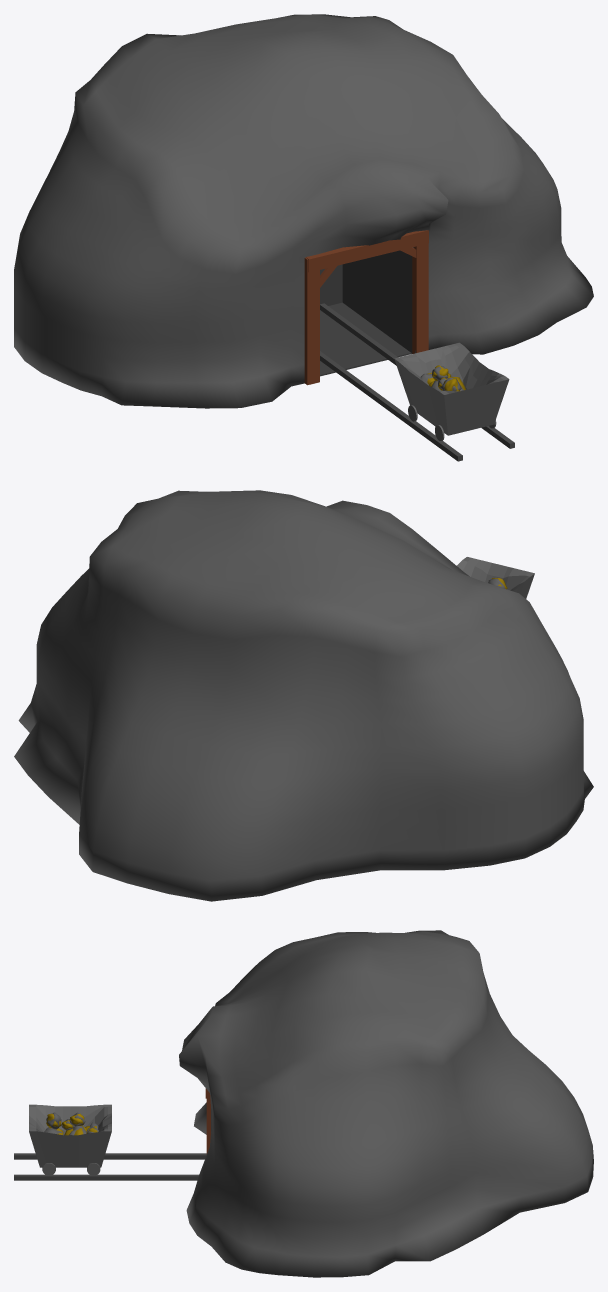
File: GoldMine.fbx
3 views of the same model, one above another, from view 1: azimuth 30°, elevation 25°; view 2: azimuth 150°, elevation 25°; view 3: azimuth 270°, elevation 25° (orthographic). The views are drawn at different scales.
Parts seen in each view (by area): view 1: GoldMine; view 2: GoldMine; view 3: GoldMine.
Boxes of the visible parts, left/top/right/bottom form: GoldMine: left=14, top=14, right=593, bottom=461; GoldMine: left=14, top=490, right=593, bottom=901; GoldMine: left=14, top=930, right=593, bottom=1277.
Size of the model in its own units: 2234 by 1078 by 2626.
